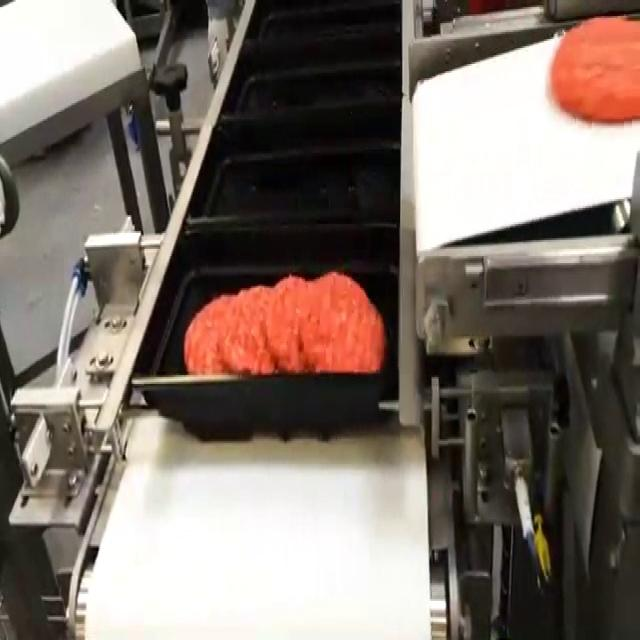4-hamburguer: (184, 272, 385, 372)
